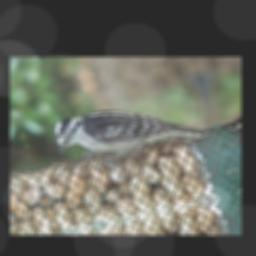Woodpecker: (44, 80, 220, 181)
